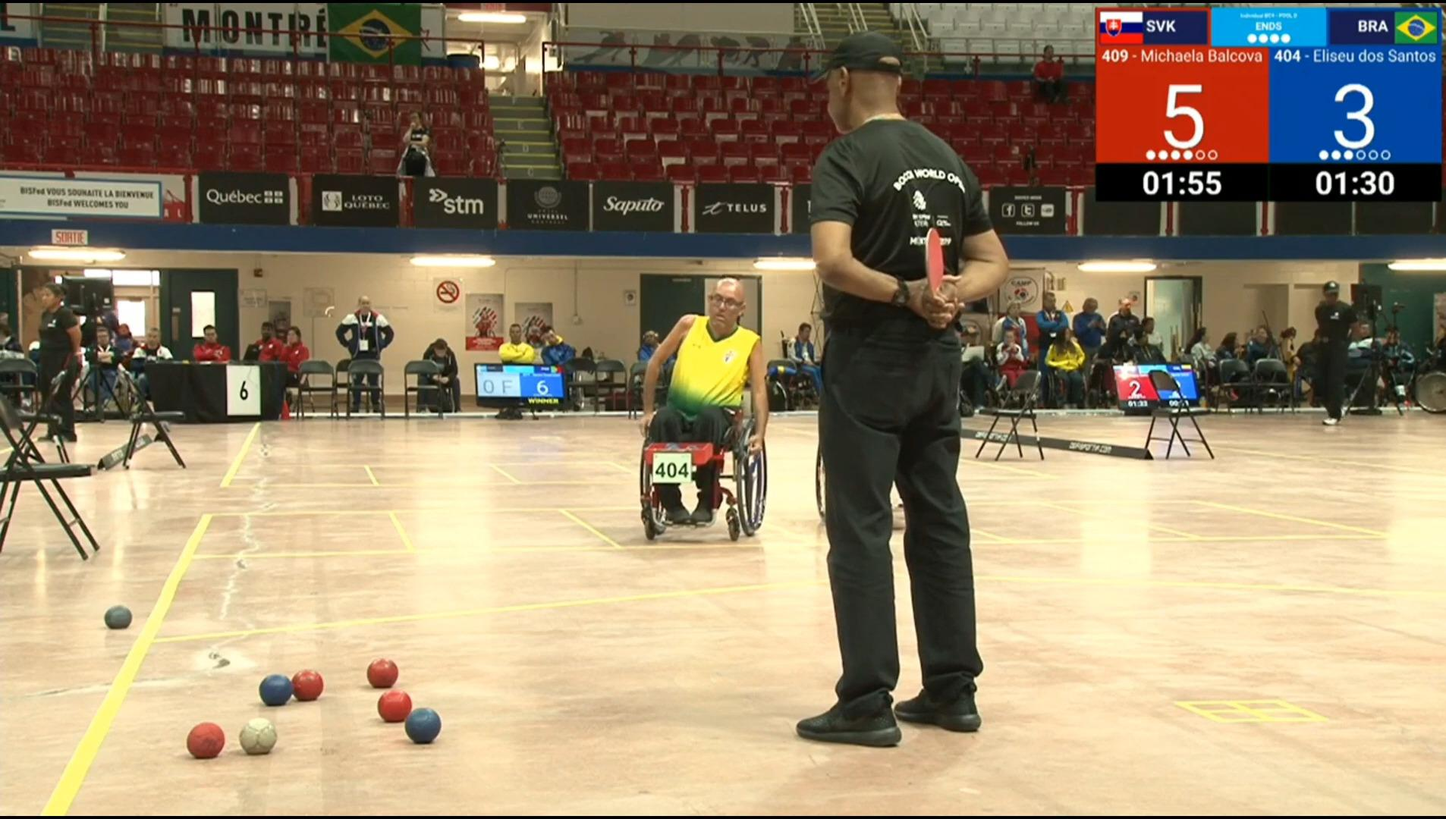blue_ball: (240, 719, 276, 754), (406, 710, 441, 743), (258, 675, 292, 706), (105, 606, 131, 628)
red_ball: (188, 724, 225, 757), (377, 691, 412, 722), (292, 671, 322, 701), (368, 660, 397, 687)
